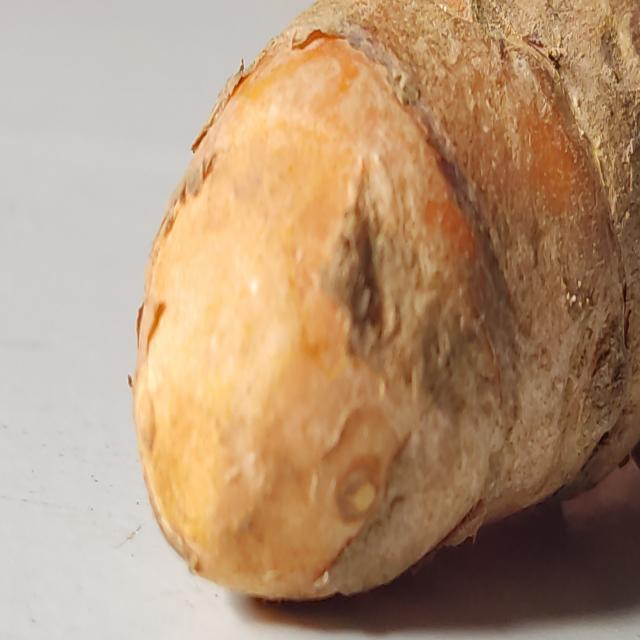ginger: (162, 26, 640, 519)
